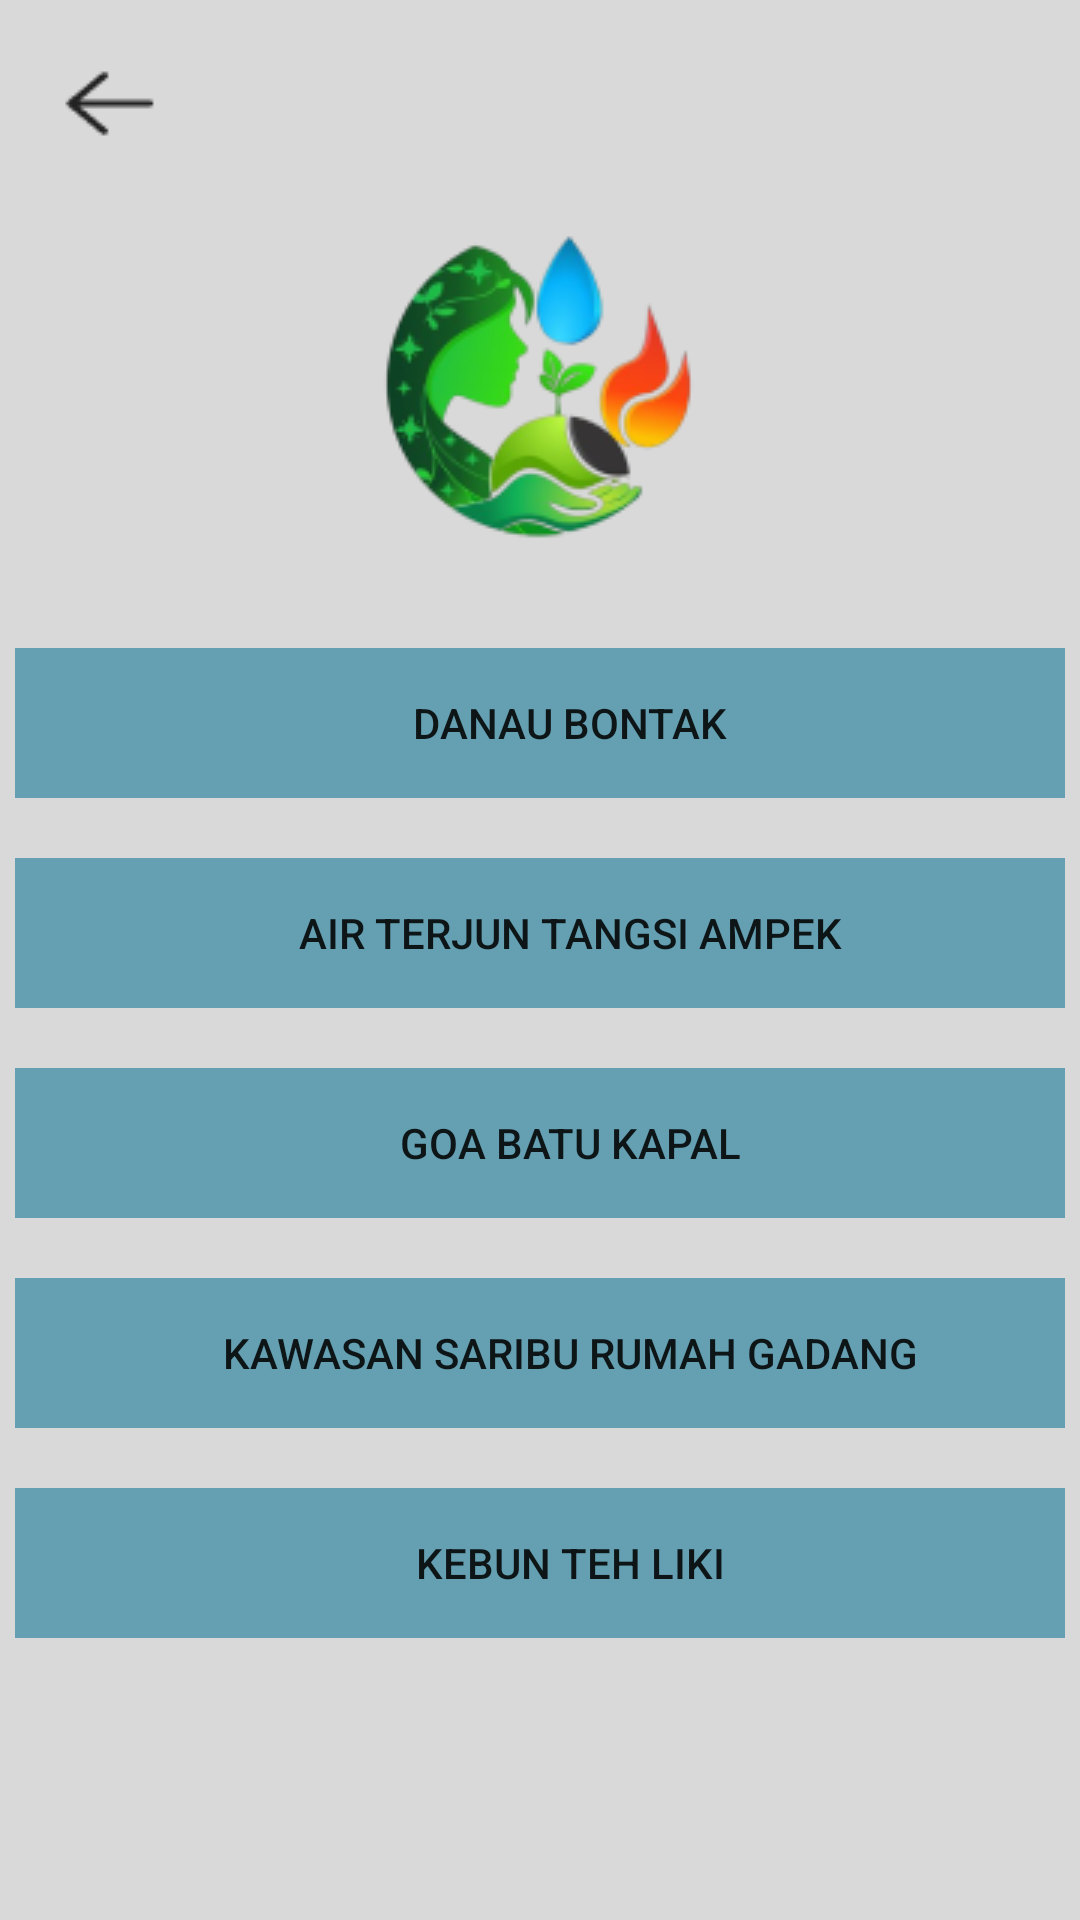

Named icons in this screenshot (1080px x 1920px) and their centers, point (x, y):
back: point (109, 103)
